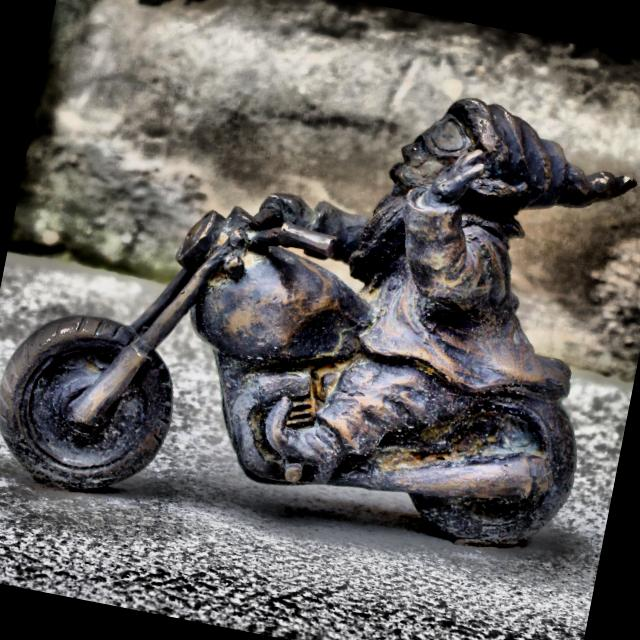Wentyl: (0, 99, 634, 546)
